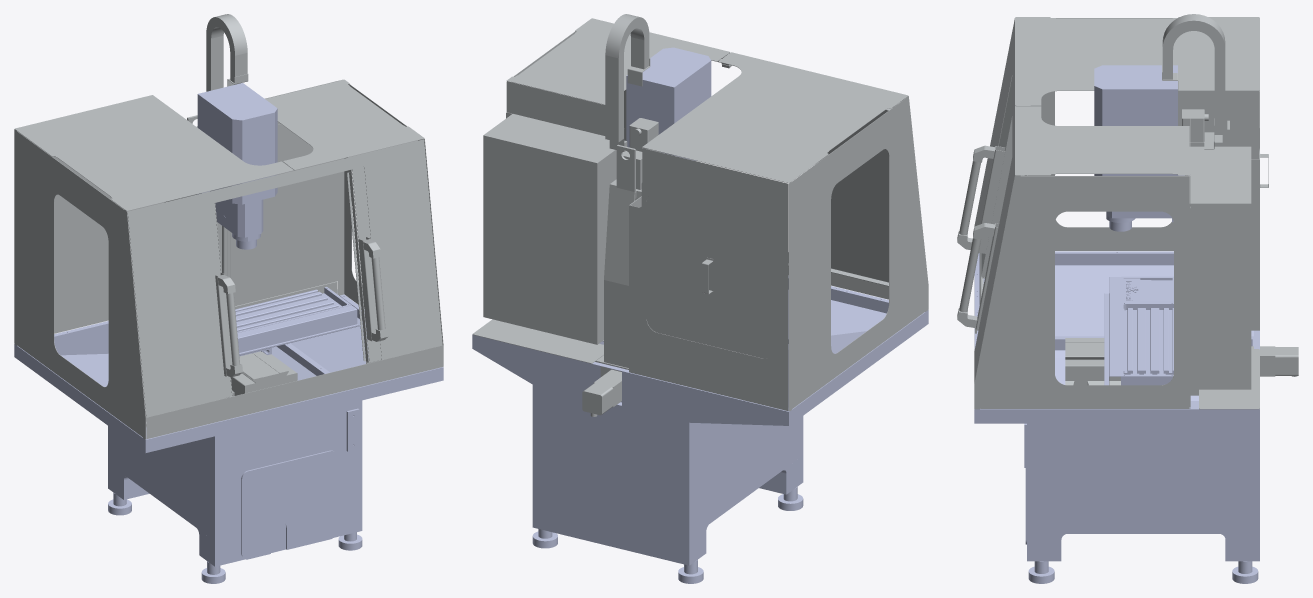
The picture shows the model from 3 angles, left to right: view 1: azimuth 30°, elevation 25°; view 2: azimuth 150°, elevation 25°; view 3: azimuth 270°, elevation 25°; orthographic projection. The views are drawn at different scales.
Visible parts, largest first — view 1: CAD component (×9), 770MSTAND, 770MSPINDLE, 770MTABLE; view 2: CAD component (×7), 770MSTAND, 770MSPINDLE; view 3: CAD component (×9), 770MSTAND, 770MTABLE, 770MSPINDLE.
Boxes of the visible parts, box(x1,y1,x2,y2) form: CAD component (×9): box(14, 14, 443, 439); 770MSTAND: box(14, 292, 443, 583); 770MSPINDLE: box(197, 83, 277, 249); 770MTABLE: box(235, 287, 359, 355); CAD component (×7): box(472, 14, 928, 416); 770MSTAND: box(472, 276, 928, 583); 770MSPINDLE: box(626, 47, 711, 160); CAD component (×9): box(957, 14, 1298, 409); 770MSTAND: box(974, 251, 1259, 583); 770MTABLE: box(1104, 276, 1173, 385); 770MSPINDLE: box(1094, 65, 1188, 231).
Size of the model in its own units: 1.41 by 2.22 by 1.29.
